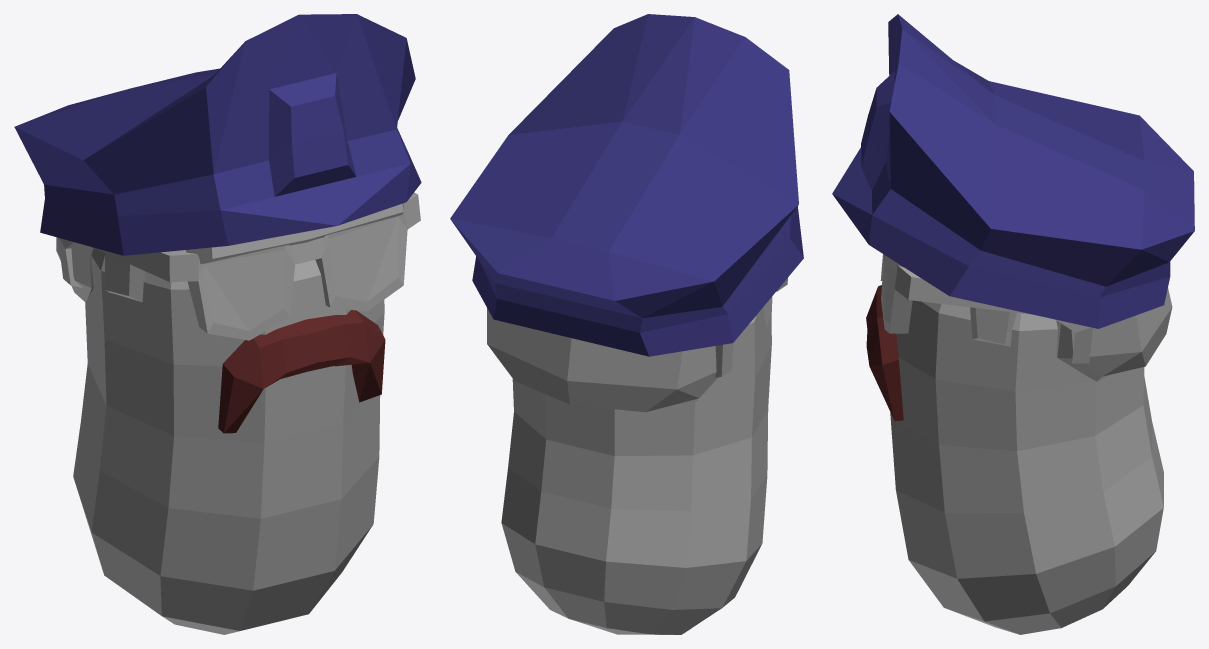
Rendered from CapsuleCopMDLwMAT.fbx.
3 views of the same model, side by side, from view 1: azimuth 30°, elevation 25°; view 2: azimuth 150°, elevation 25°; view 3: azimuth 270°, elevation 25° (orthographic). The views are drawn at different scales.
Parts seen in each view (by area): view 1: CapsuleCop; view 2: CapsuleCop; view 3: CapsuleCop.
Part boxes in pixels (left/top/right/bottom): CapsuleCop: left=14, top=14, right=421, bottom=634; CapsuleCop: left=450, top=14, right=803, bottom=634; CapsuleCop: left=832, top=14, right=1194, bottom=634.
Size of the model in its own units: 114 by 212 by 118.
